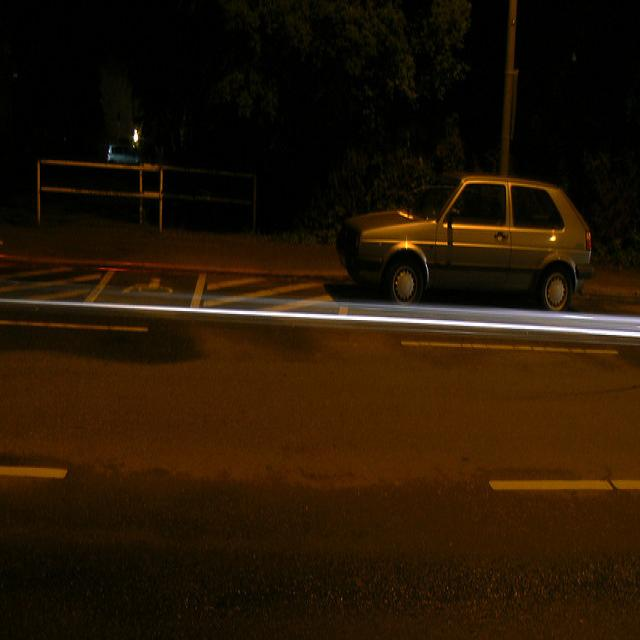Car: (340, 175, 593, 310)
